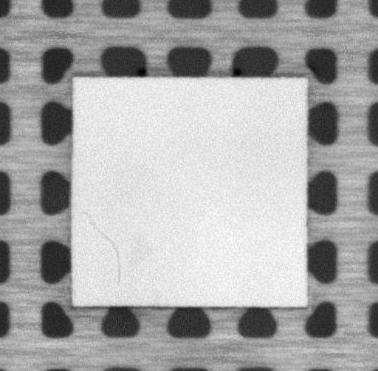DIE_CRACK: (84, 208, 122, 283)
